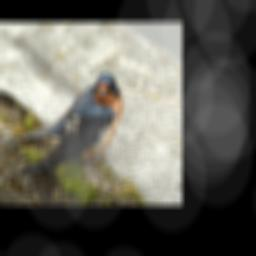Swallow: (0, 71, 124, 176)
